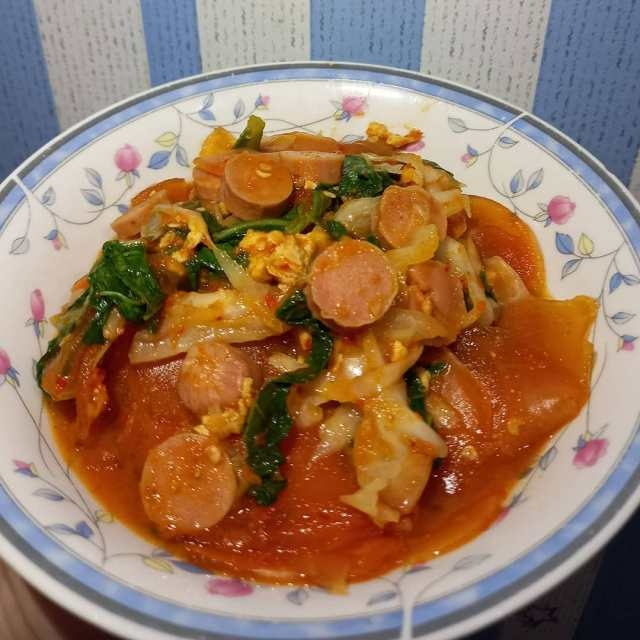seblak: (38, 116, 602, 587)
